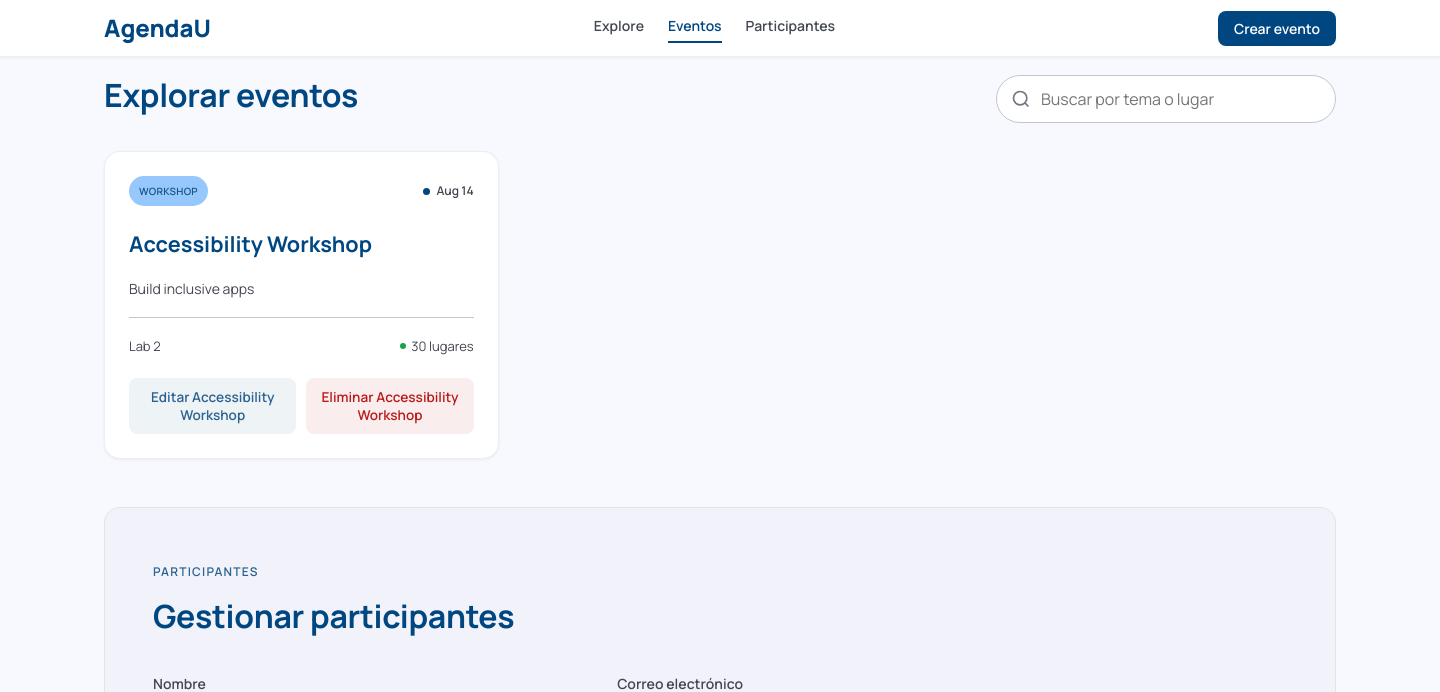
App › edits an event in place
(page scrolled)
Click the button "Editar Accessibility Workshop": (213, 406) [129, 378, 296, 434]
(page scrolled)
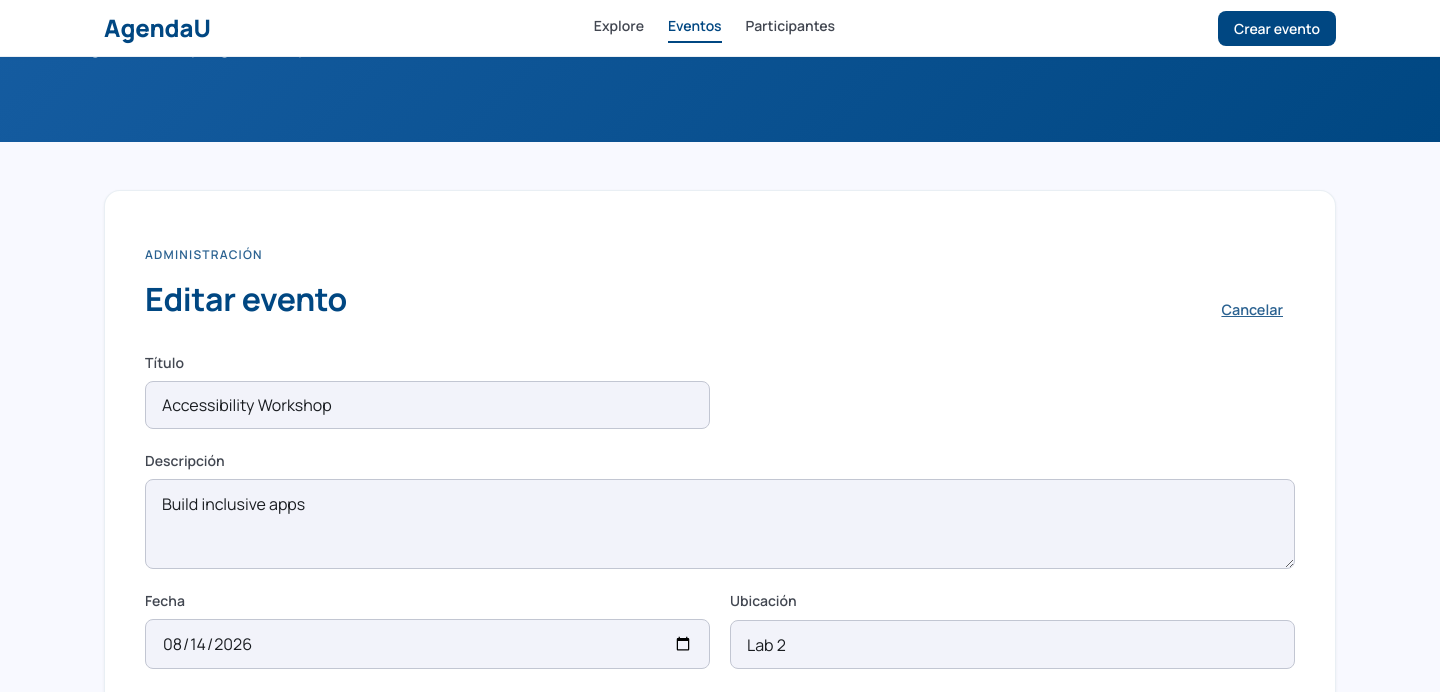
Replace the text in the field labelled "Título" with "Updated Workshop": (428, 405) [145, 381, 710, 429]
(page scrolled)
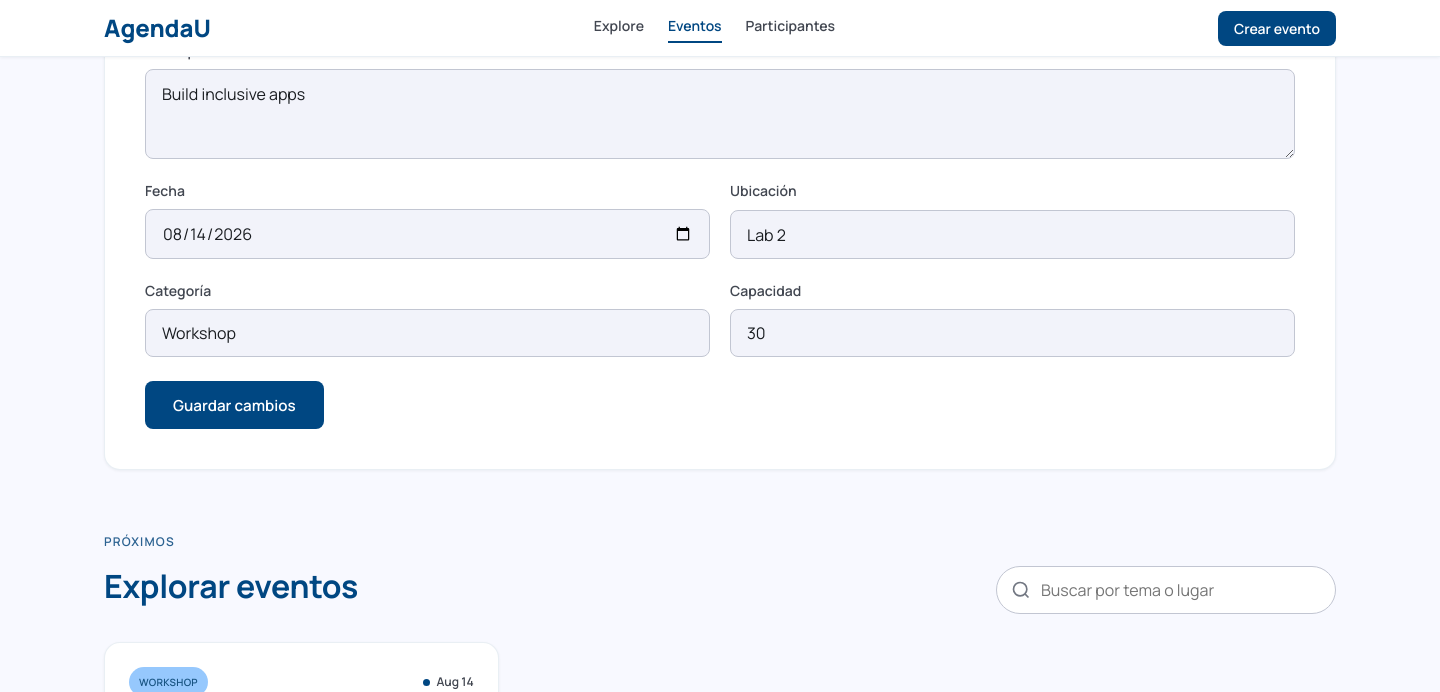
Click the button "Guardar cambios": (234, 405) [145, 381, 324, 429]
(page scrolled)
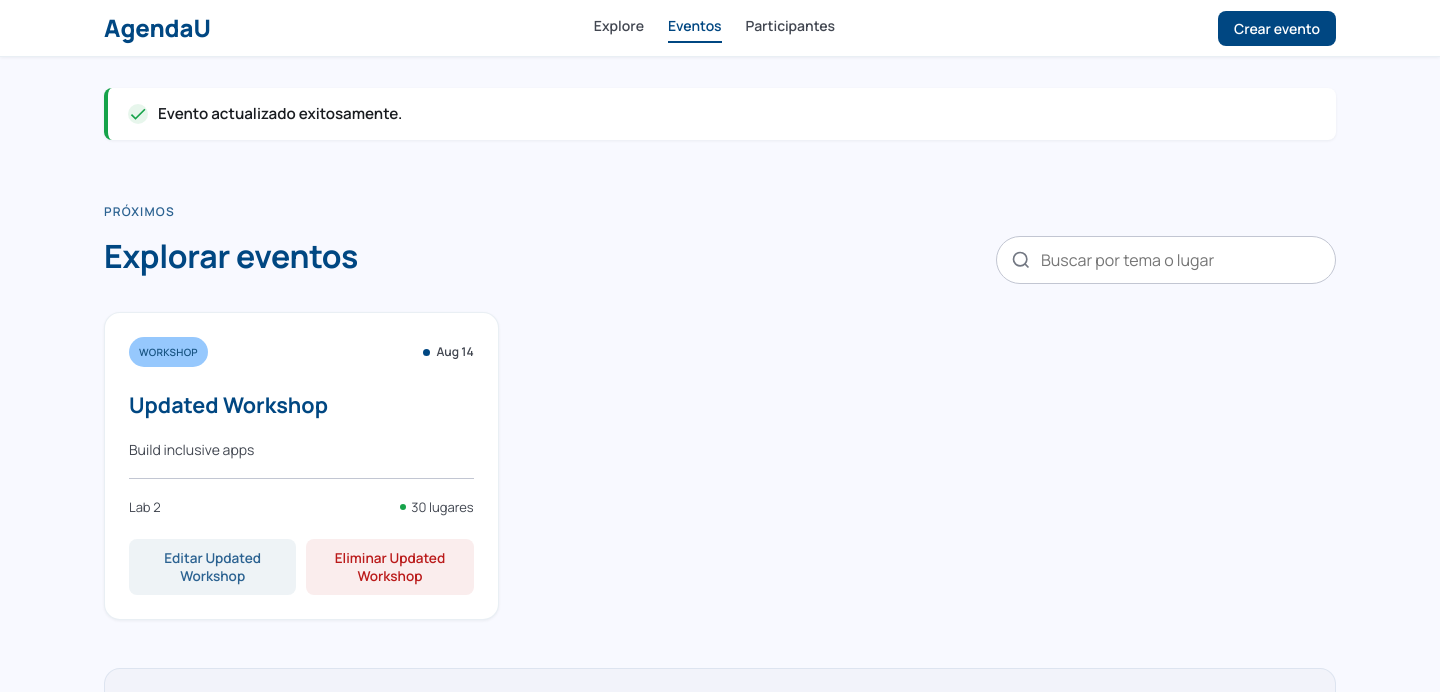
Expected: the heading "Updated Workshop" is shown, [129, 390, 328, 419]
